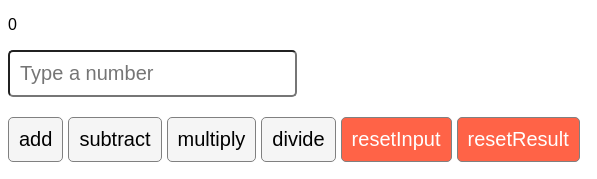
Test: calculate 5/0, then, add 10, should result be 10
Type "5" into the number field named "calculator-input". click: [152, 74]
box: [8,50,297,97]
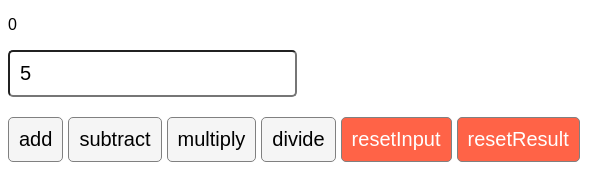
Click the button "add". click: [36, 140]
box: [8,117,63,162]
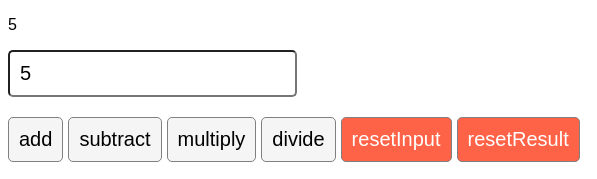
expect the text named "calculator-output" reads "5": met, box [8,16,17,33]
Replace the text in the number field named "calculator-input" with "0". click: [152, 74]
box: [8,50,297,97]
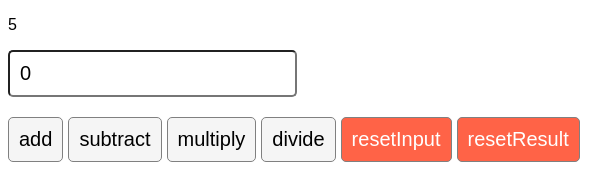
Click the button "divide". click: [298, 140]
box: [261,117,336,162]
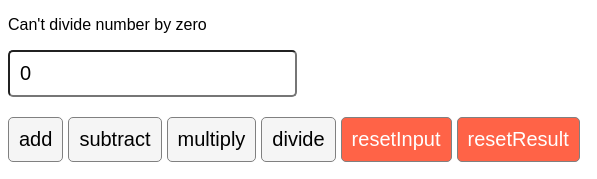
expect the text named "calculator-output" reads "Can't divide number by zero": met, box [8,16,207,33]
Replace the text in the number field named "calculator-input" with "10". click: [152, 74]
box: [8,50,297,97]
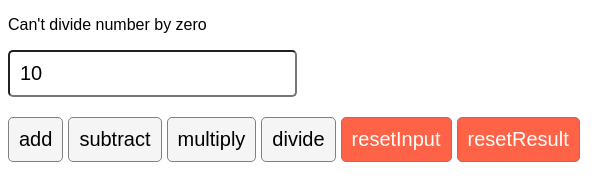
Click the button "add". click: [36, 140]
box: [8,117,63,162]
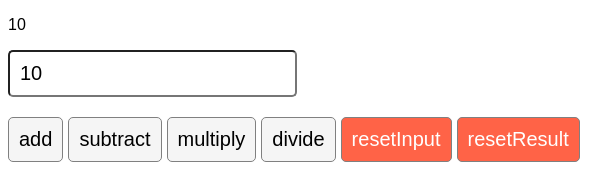
expect the text named "calculator-output" reads "10": met, box [8,16,26,33]
